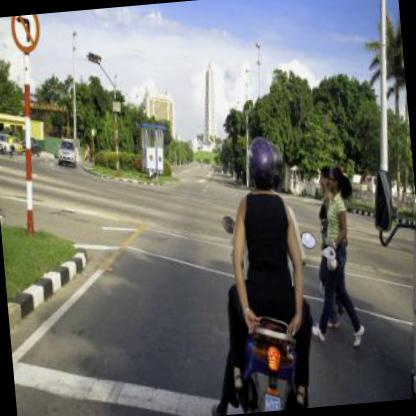motorcycle: (220, 209, 332, 413)
